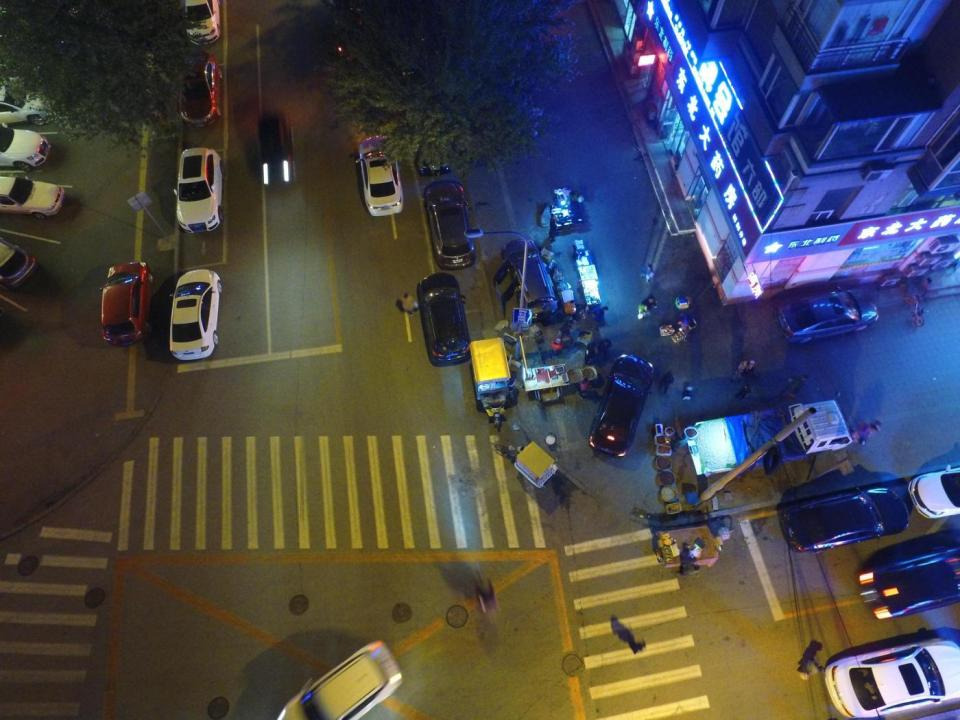car: (277, 640, 401, 718), (781, 488, 910, 552), (859, 546, 960, 620), (590, 355, 655, 456), (822, 636, 960, 682), (396, 71, 454, 177), (774, 287, 878, 343), (420, 272, 472, 366), (168, 270, 222, 359), (502, 237, 558, 319), (100, 260, 153, 346), (424, 182, 476, 268), (178, 148, 225, 231), (356, 136, 404, 214), (256, 114, 296, 190), (179, 53, 221, 125), (0, 76, 60, 124), (0, 176, 65, 218), (909, 469, 960, 518), (0, 126, 50, 170), (0, 240, 40, 290), (184, 0, 223, 43)
truck: (690, 400, 852, 471)
